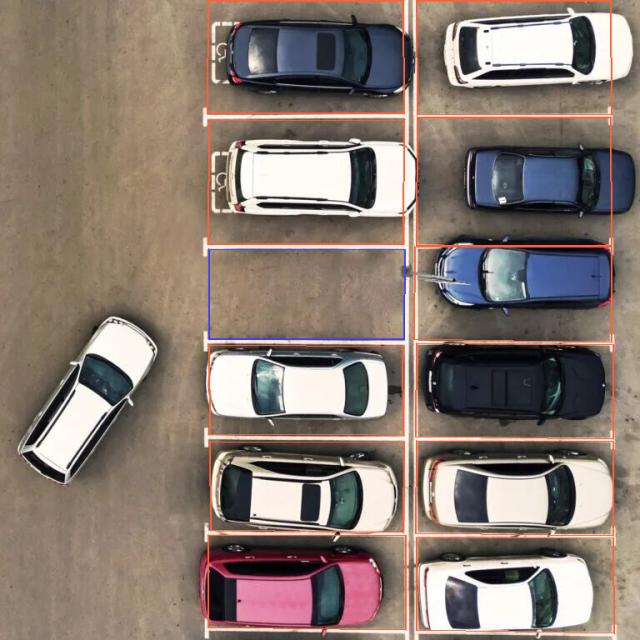space-empty: (209, 243, 406, 342)
space-occupied: (209, 113, 406, 244), (415, 0, 611, 112), (422, 113, 611, 229), (420, 236, 612, 342), (205, 534, 407, 634), (412, 536, 612, 636), (208, 437, 406, 538), (207, 338, 403, 438), (414, 440, 614, 538), (213, 9, 407, 110), (418, 342, 612, 441)
